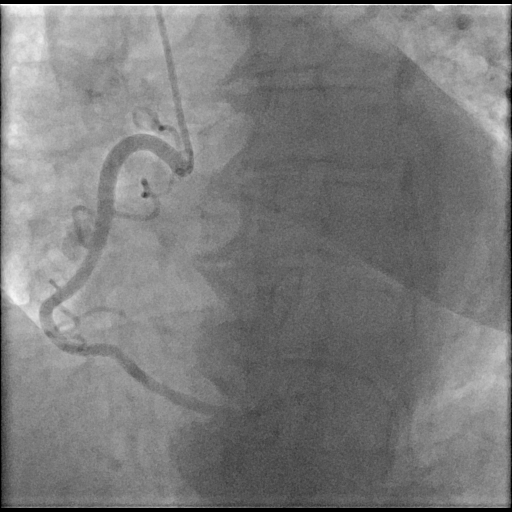RCA: (39, 133, 217, 415)
catherter: (154, 5, 193, 156)
